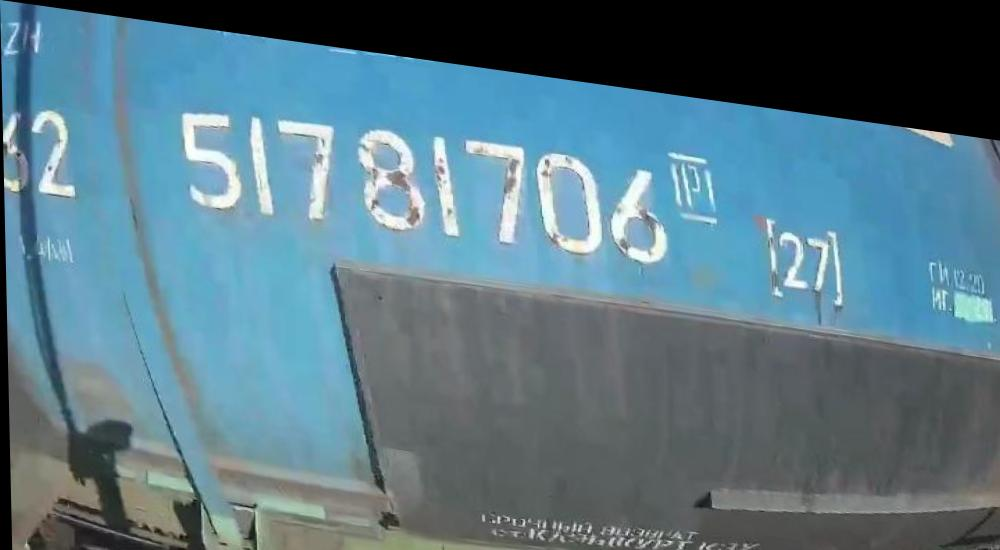Wagon-number: (173, 88, 674, 265)
